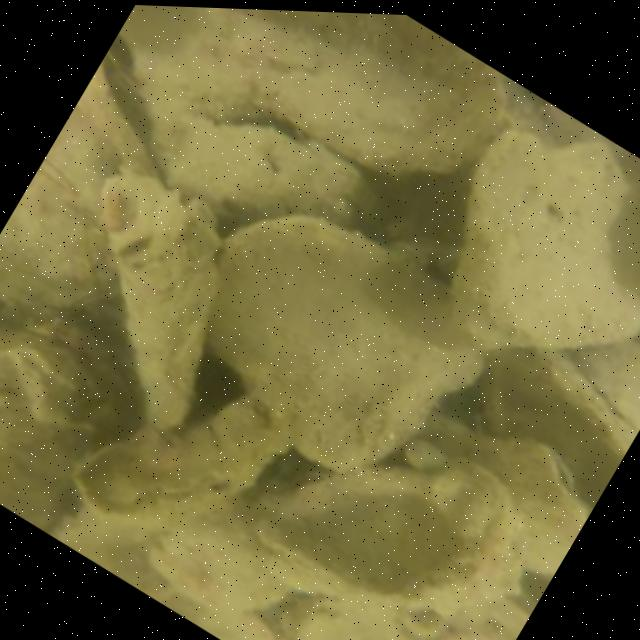Oyster-Indeterminate: (214, 212, 496, 476), (207, 8, 510, 179), (451, 122, 640, 355), (255, 457, 521, 614), (0, 65, 163, 312), (102, 170, 220, 440), (67, 398, 286, 528), (429, 429, 591, 572)
